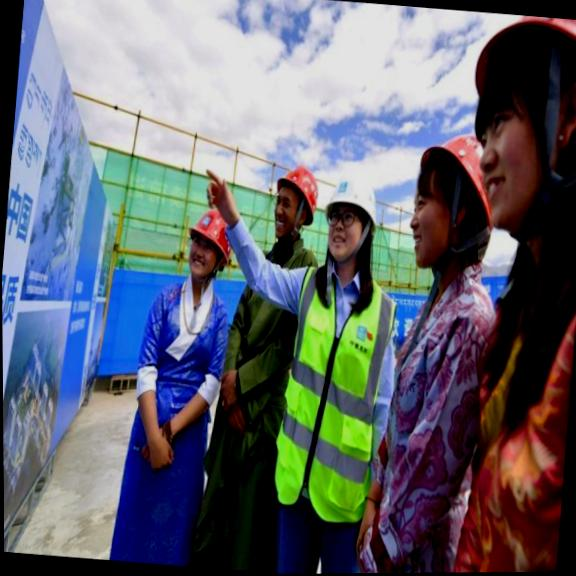no_safety_vest: (390, 275, 491, 500), (151, 277, 223, 417)
safety_vest: (279, 277, 384, 520)
